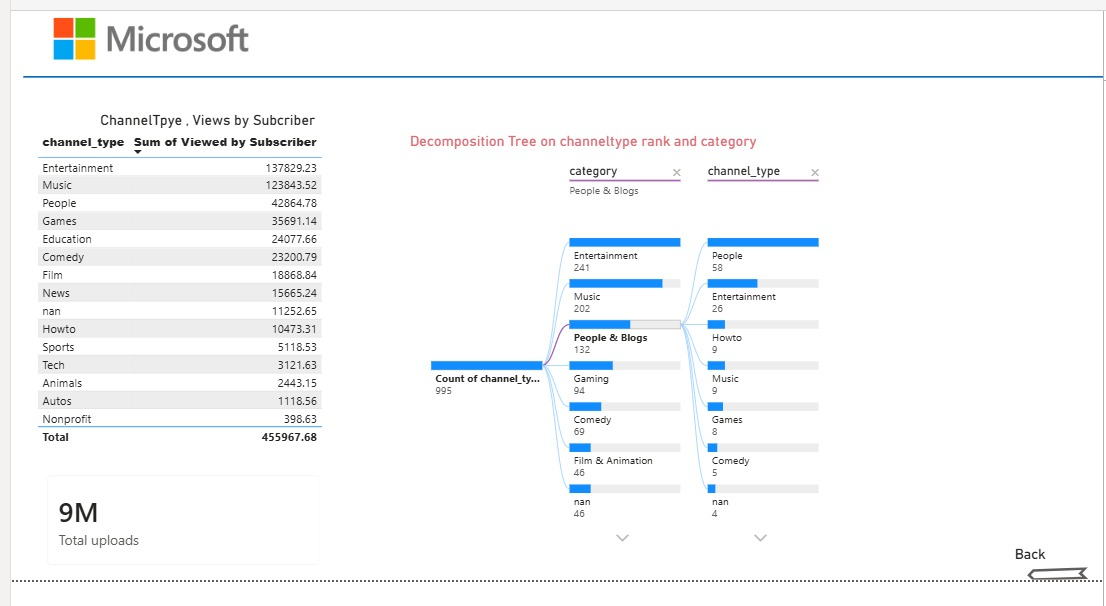

Layout of this report page (visuals, bound fields, positions):
{"tool":"powerbi","page":{"name":"Page 3","canvas":[1280,720],"ordinal":2},"visuals":[{"type":"tableEx","title":"ChannelTpye , Views by Subcriber","fields":{"Values":["Global YouTube Statistics.channel_type","Sum(Global YouTube Statistics.Viewed by Subscriber)"]},"box":[26.5,194.4,353.5,413.6],"z":0},{"type":"cardVisual","fields":{"Data":["Key measures.Total uploads"]},"box":[26.5,579.8,353.5,139.6],"z":1000},{"type":"decompositionTreeVisual","title":"Decomposition Tree on channeltype rank and category","fields":{"Analyze":["CountNonNull(Global YouTube Statistics.channel_type_rank)"],"ExplainBy":["Global YouTube Statistics.category","Global YouTube Statistics.channel_type"]},"box":[364.1,208.6,800.7,491.4],"z":2000},{"type":"actionButton","title":"Back","box":[1177.2,678.7,100.7,40.7],"z":3000},{"type":"shape","box":[14.1,0,1265.6,259.8],"z":4000},{"type":"image","box":[14.1,21.2,298.7,129],"z":5000}]}

Visuals, with their boxes in screenshot pixels (x1, y1, x2, y2), scaled from the page's 1280x720 canvas onto the 1106x606 screenshot:
"ChannelTpye , Views by Subcriber" tableEx: 23, 164, 328, 512
cardVisual - Key measures.Total uploads: 23, 488, 328, 605
"Decomposition Tree on channeltype rank and category" decompositionTreeVisual: 315, 176, 1006, 589
"Back" actionButton: 1017, 571, 1104, 605
shape: 12, 0, 1105, 219
image: 12, 18, 270, 126
